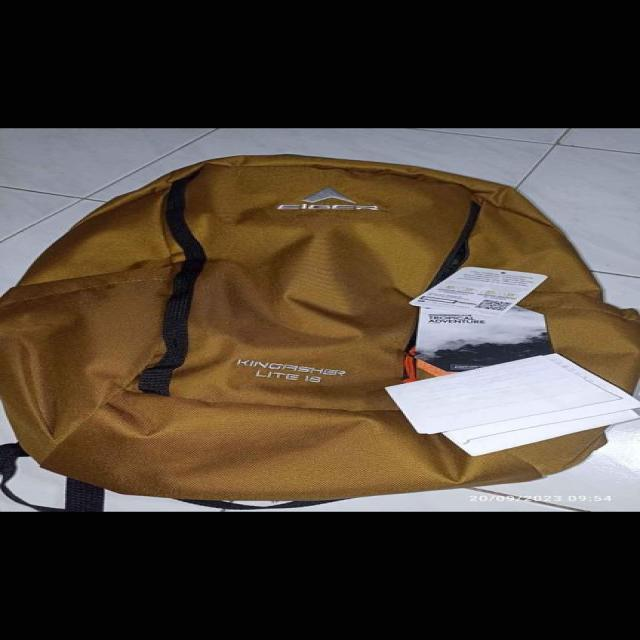bag: (0, 151, 636, 508)
